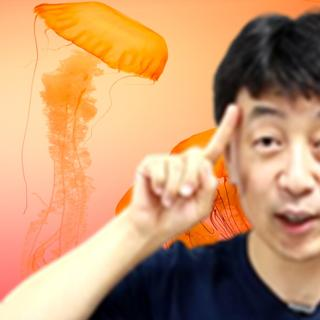IRRITATED: (125, 99, 246, 247)
